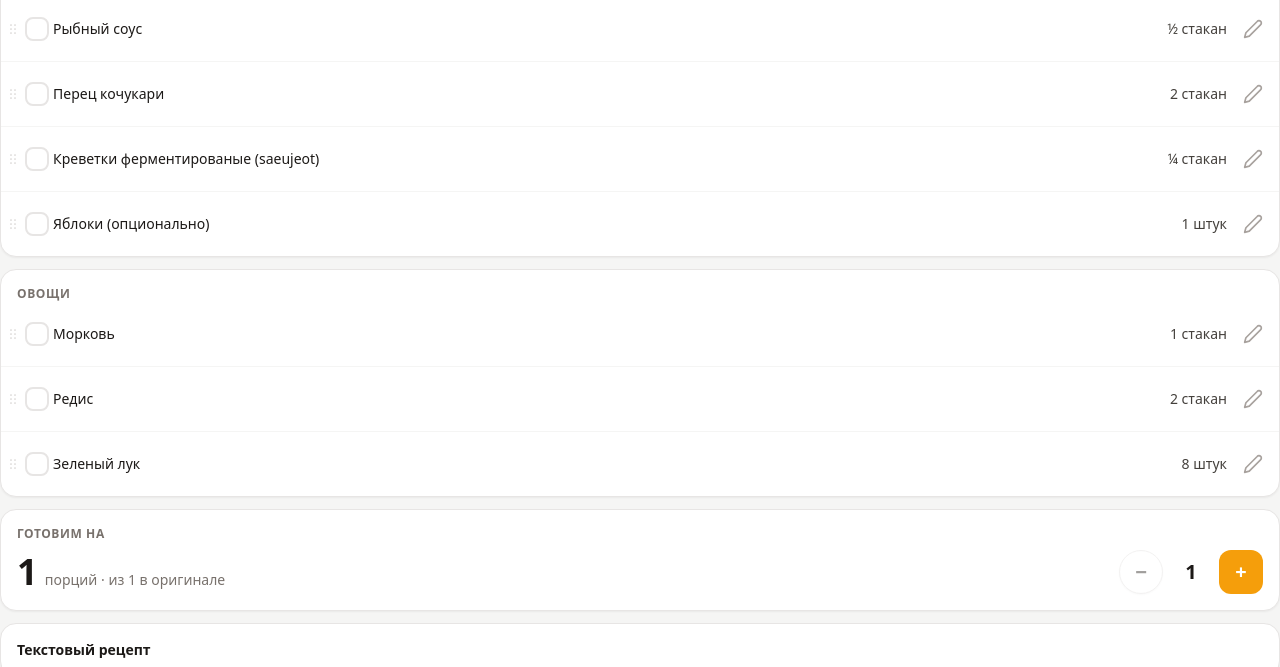
Test: RecipeCalculator › rescales quantities when newScale changes
(page scrolled)
The portion stepper replaces the old #new_scale input: step 1 → 3.
Click the button named "Больше порций": point(1241, 572) [1219,550,1263,594]
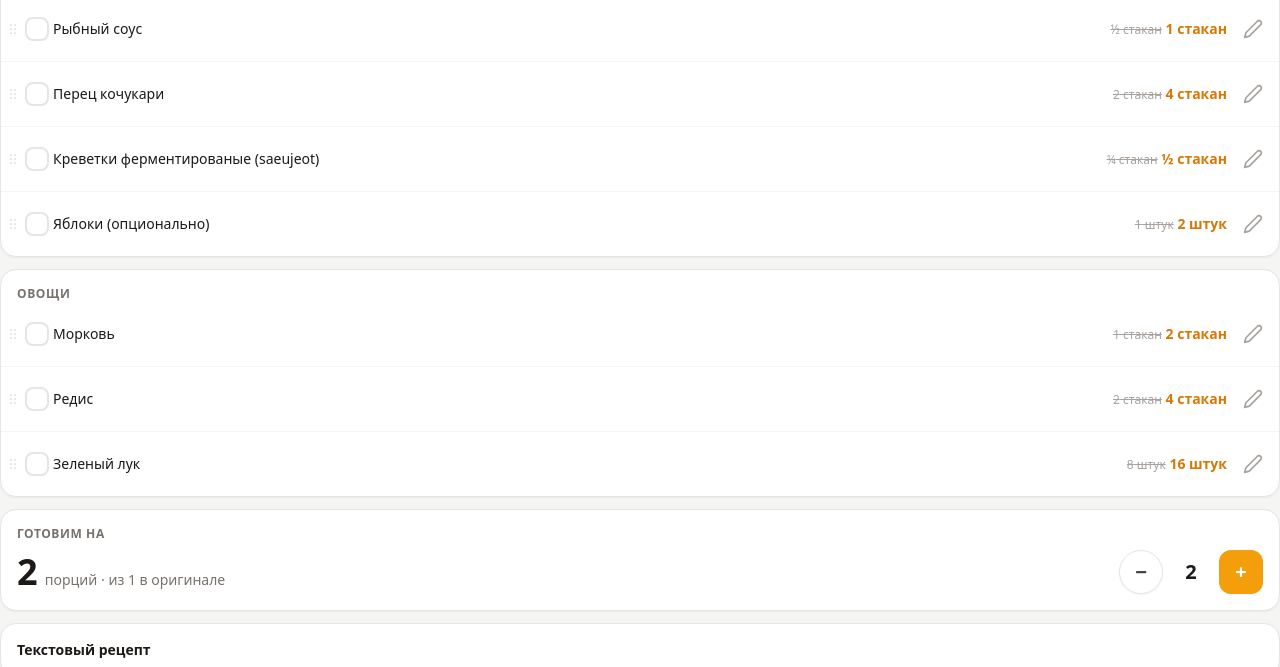
Click the button named "Больше порций": point(1241, 572) [1219,550,1263,594]
(page scrolled)
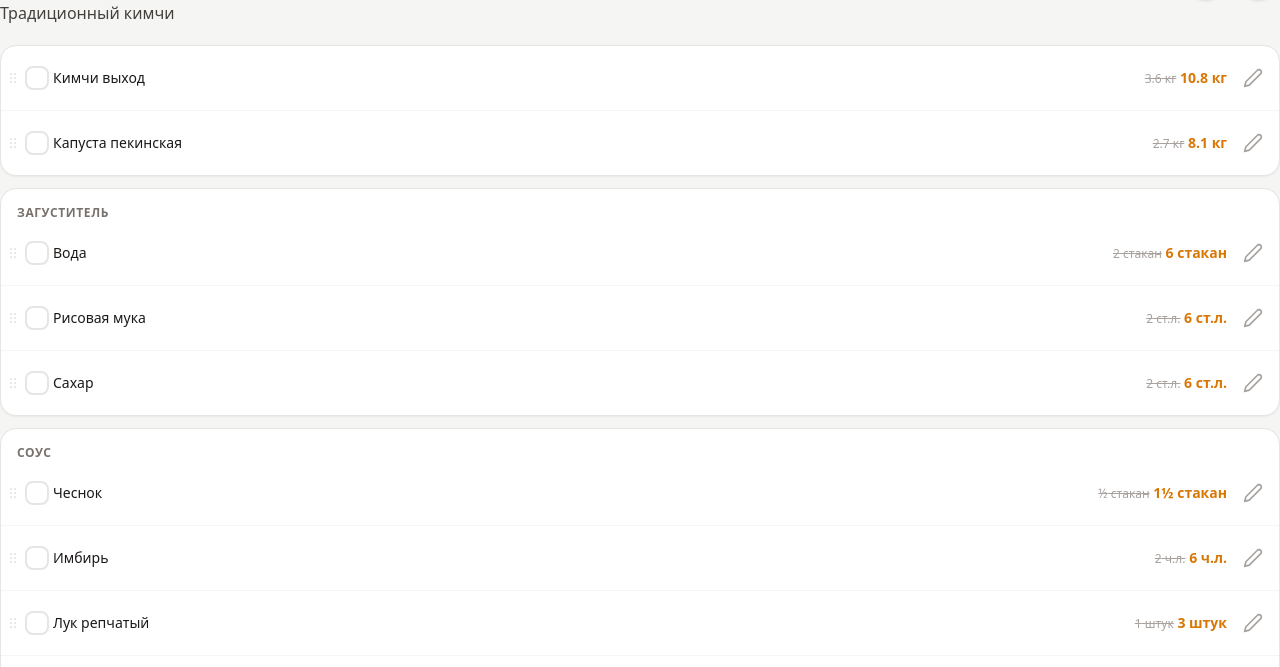
Expected: the text "8.1" is shown, [1188,133,1208,152]
